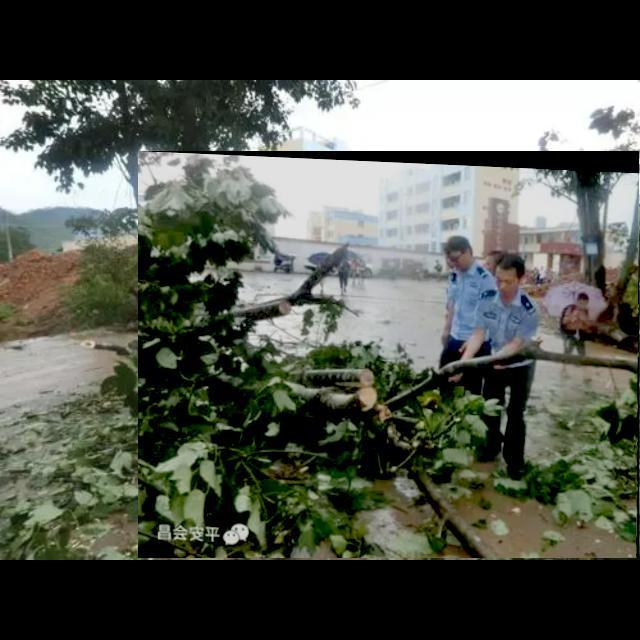fallen_tree: (138, 151, 640, 559)
